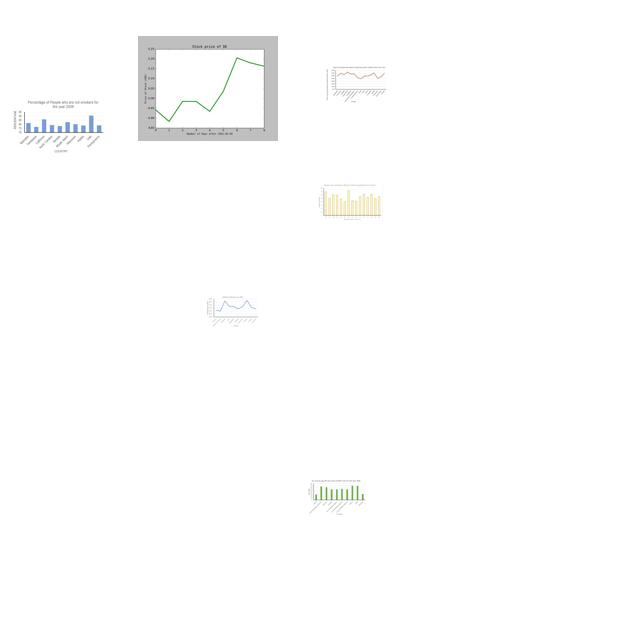Graph: (138, 36, 278, 141), (12, 98, 105, 154), (317, 183, 383, 222), (325, 66, 388, 104), (306, 479, 366, 515), (207, 296, 259, 327)
